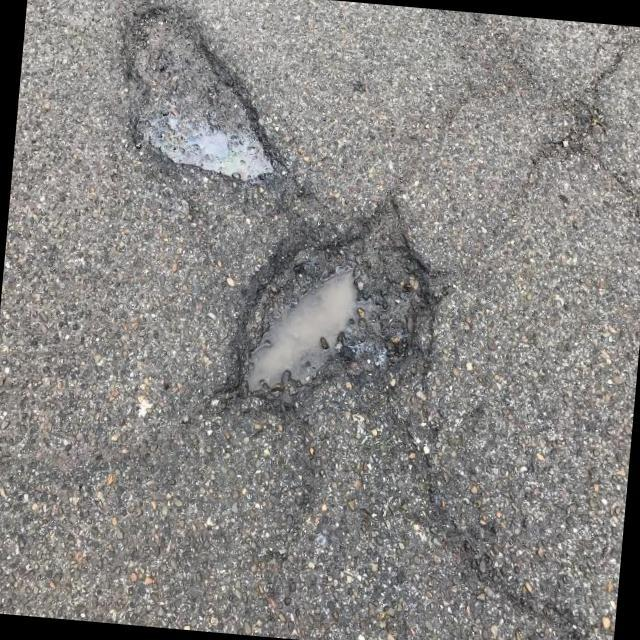Pothole: (225, 224, 433, 391), (125, 6, 290, 197)
